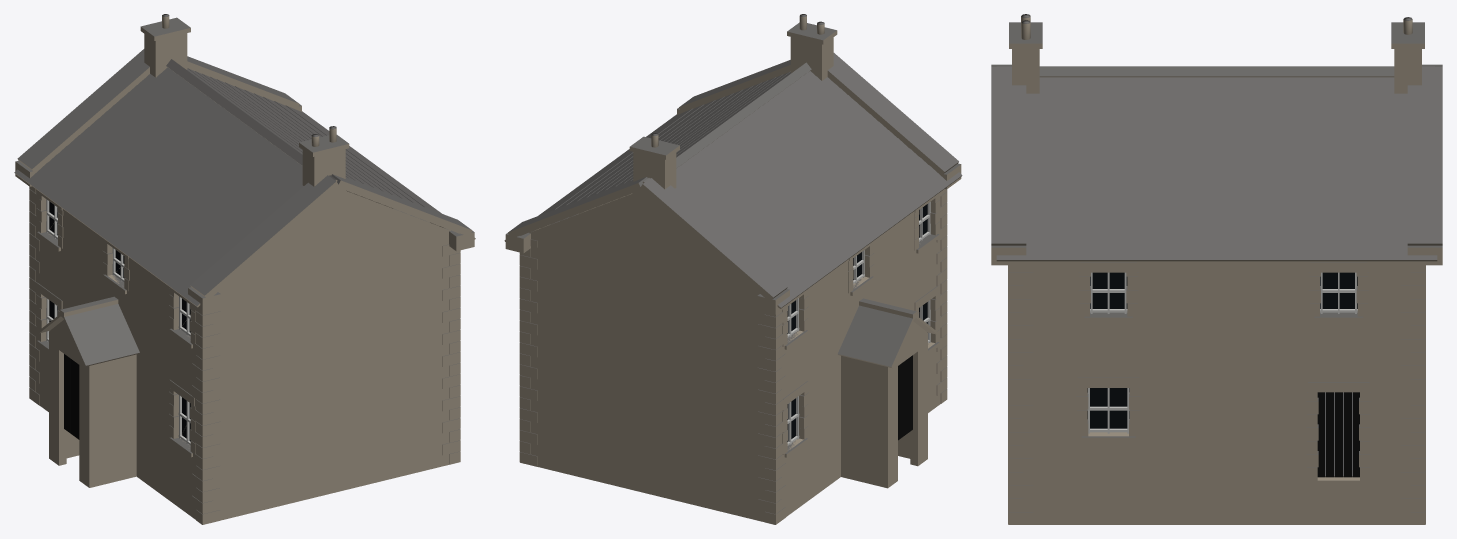
The model's file is context.dales.house_22.glb.
The picture shows the model from 3 angles, left to right: view 1: azimuth 30°, elevation 25°; view 2: azimuth 150°, elevation 25°; view 3: azimuth 270°, elevation 25°; orthographic projection. The views are drawn at different scales.
Visible parts, largest first — view 1: main__stone_a98, main__slate_666, main__paint_ccc, main__rubber, main__glass_dark; view 2: main__stone_a98, main__slate_666, main__paint_ccc, main__rubber, main__glass_dark; view 3: main__stone_a98, main__slate_666, main__glass_dark, main__rubber, main__paint_ccc.
Boxes of the visible parts, x1=… form: main__stone_a98: x1=15, y1=15, x2=475, y2=524; main__slate_666: x1=14, y1=14, x2=474, y2=514; main__paint_ccc: x1=46, y1=199, x2=190, y2=445; main__rubber: x1=64, y1=354, x2=79, y2=439; main__glass_dark: x1=49, y1=201, x2=190, y2=441; main__stone_a98: x1=504, y1=16, x2=961, y2=524; main__slate_666: x1=506, y1=14, x2=962, y2=514; main__paint_ccc: x1=787, y1=202, x2=930, y2=445; main__rubber: x1=898, y1=355, x2=912, y2=440; main__glass_dark: x1=787, y1=204, x2=927, y2=441; main__stone_a98: x1=991, y1=16, x2=1442, y2=524; main__slate_666: x1=991, y1=14, x2=1442, y2=512; main__glass_dark: x1=1087, y1=272, x2=1357, y2=428; main__rubber: x1=1317, y1=392, x2=1359, y2=477; main__paint_ccc: x1=1087, y1=272, x2=1357, y2=433.
Bounding box in the file's own units: 9.17 × 9.75 × 9.23.
